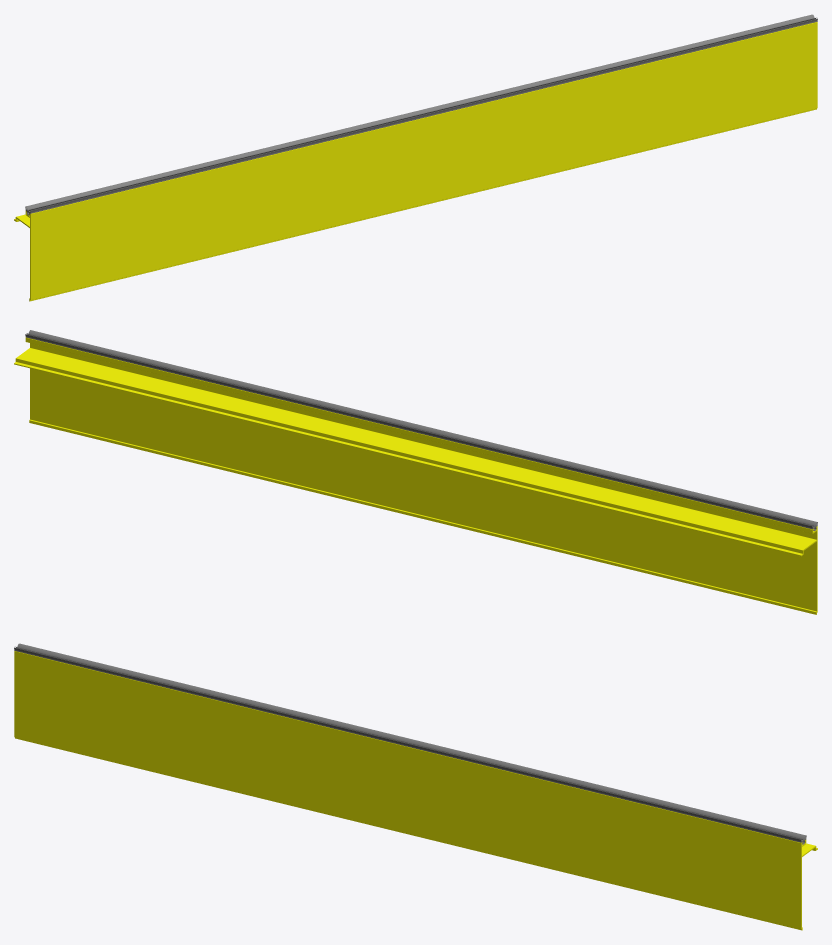
Rendered from cover.glb.
3 renders of one model, top to bottom at view 1: azimuth 30°, elevation 25°; view 2: azimuth 150°, elevation 25°; view 3: azimuth 330°, elevation 25°, orthographic.
Visible parts, largest first — view 1: Zwischendeckel_4_1, Group1; view 2: Zwischendeckel_4_1, Group1; view 3: Zwischendeckel_4_1, Group1.
Part boxes in pixels (x1,y1,x2,y2): Zwischendeckel_4_1: [14, 22, 817, 301]; Group1: [25, 14, 817, 215]; Zwischendeckel_4_1: [14, 337, 817, 614]; Group1: [25, 330, 817, 530]; Zwischendeckel_4_1: [14, 651, 817, 930]; Group1: [14, 643, 806, 844].
Bounding box in the file's own units: 1 × 0.112 × 0.0372.
2 materials, 1 textured.
